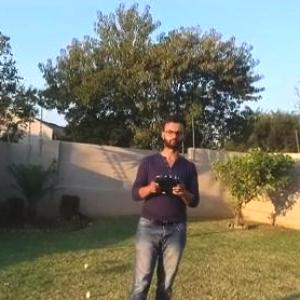follow: (119, 109, 202, 299)
